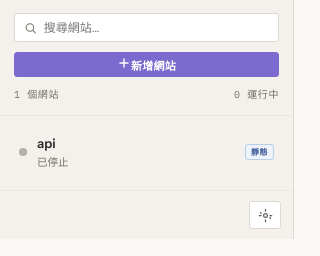
it: SiteRail — row context menu wiring (C/C+) › right-clicking a row selects it and opens the portal menu
Right-click the option "api 已停止 靜態": (53, 162) left=19, top=135, right=274, bottom=168
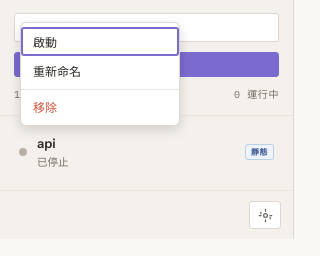
Expected: the menu is shown, left=20, top=22, right=180, bottom=126
